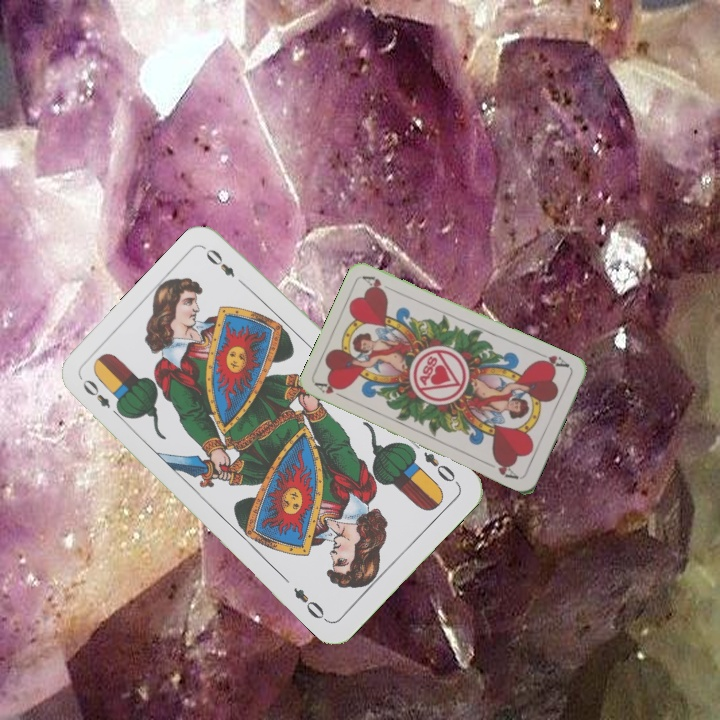EO: (78, 375, 126, 421), (419, 447, 462, 487)
HA: (312, 378, 351, 403), (532, 348, 572, 372)
